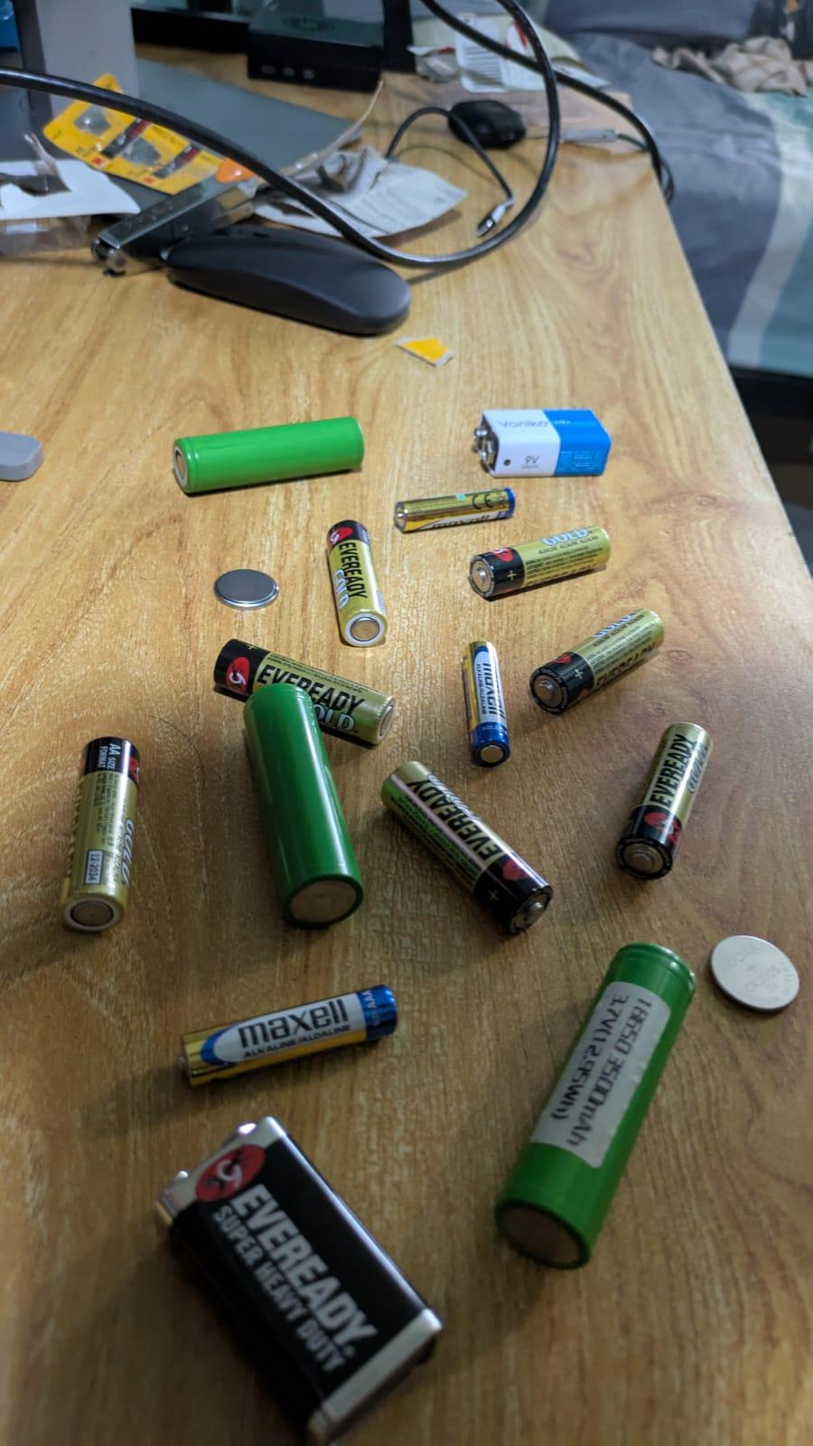9V: (155, 1114, 444, 1436), (473, 409, 613, 478)
AA: (381, 757, 555, 933), (210, 641, 398, 748), (59, 737, 142, 935), (612, 722, 713, 881), (527, 611, 666, 721), (466, 524, 614, 601), (324, 520, 390, 646)
AAA: (168, 975, 406, 1099), (463, 631, 515, 775), (386, 485, 522, 540)
COIN: (707, 933, 802, 1014), (211, 568, 280, 611)
